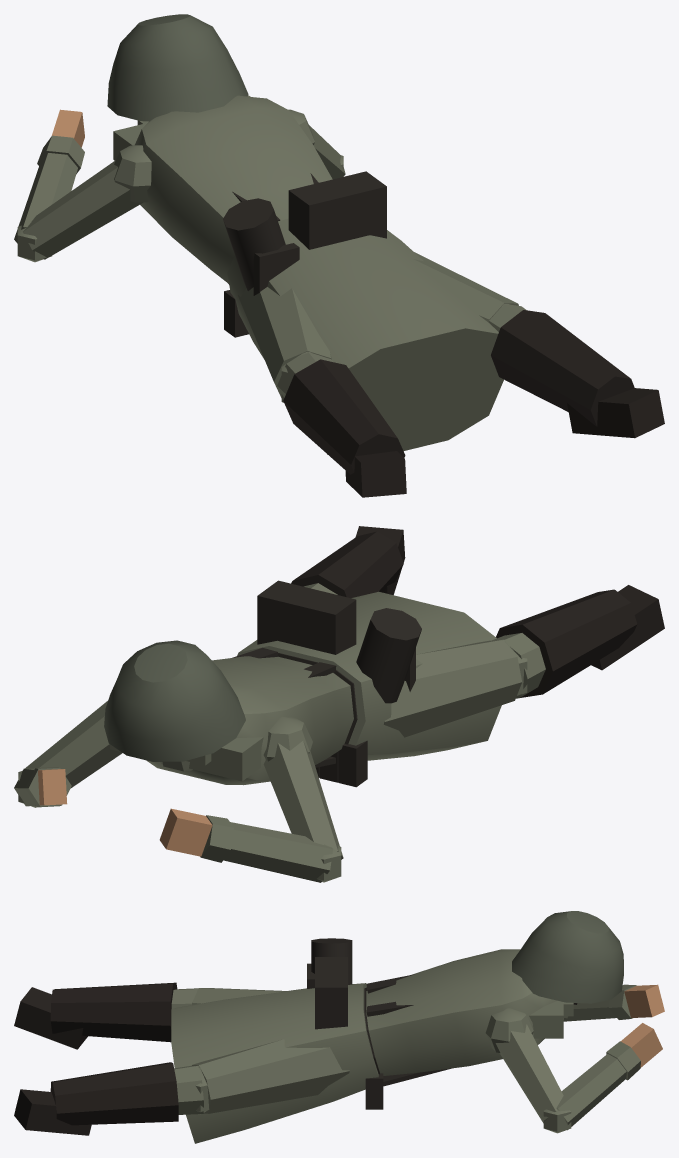
File: soldier_de_coat_prone_mg.glb
3 renders of one model, top to bottom at view 1: azimuth 30°, elevation 25°; view 2: azimuth 150°, elevation 25°; view 3: azimuth 270°, elevation 25°, orthographic. The views are drawn at different scales.
Parts seen in each view (by area): view 1: soldier_de_coat_prone_mg; view 2: soldier_de_coat_prone_mg; view 3: soldier_de_coat_prone_mg.
Boxes of the visible parts, x1,y1,x2,y2 form: soldier_de_coat_prone_mg: (14,14,664,497); soldier_de_coat_prone_mg: (14,526,664,882); soldier_de_coat_prone_mg: (14,911,664,1143).
Size of the model in its own units: 0.8116 by 0.6283 by 1.76.
